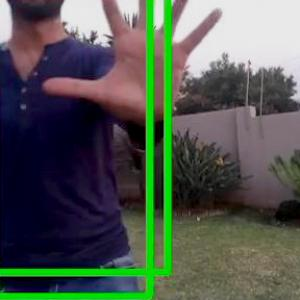follow_hand: (39, 0, 233, 133)
